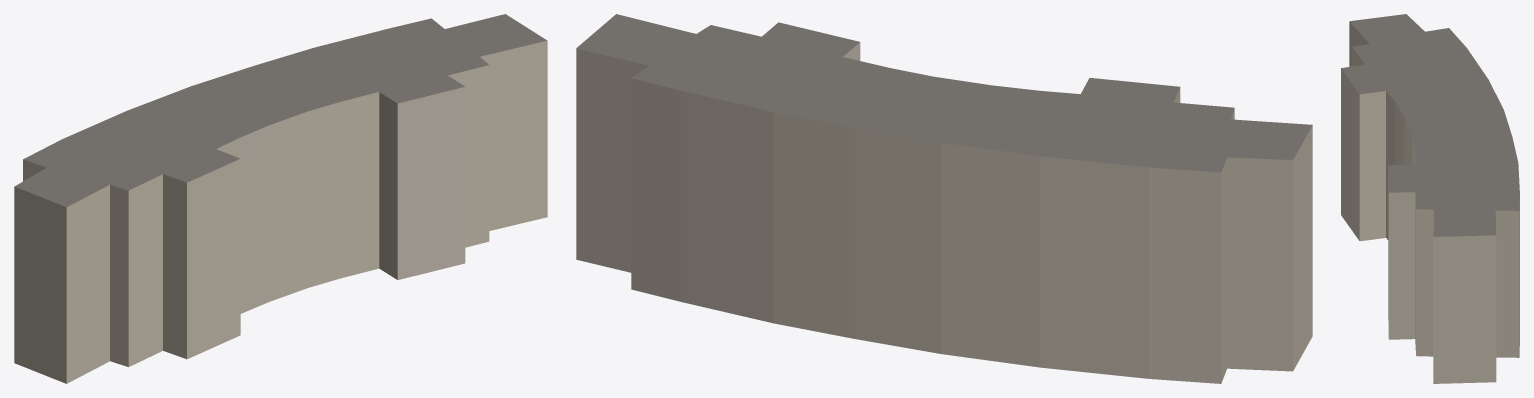
The picture shows the model from 3 angles, left to right: view 1: azimuth 30°, elevation 25°; view 2: azimuth 150°, elevation 25°; view 3: azimuth 270°, elevation 25°; orthographic projection. The views are drawn at different scales.
Visible parts, largest first — view 1: HP-w1435372649; view 2: HP-w1435372649; view 3: HP-w1435372649.
Part boxes in pixels (x1,y1,x2,y2): HP-w1435372649: (14,14,547,383); HP-w1435372649: (576,14,1312,383); HP-w1435372649: (1341,14,1519,383).
Bounding box in the file's own units: 58.58 × 18 × 19.87.
